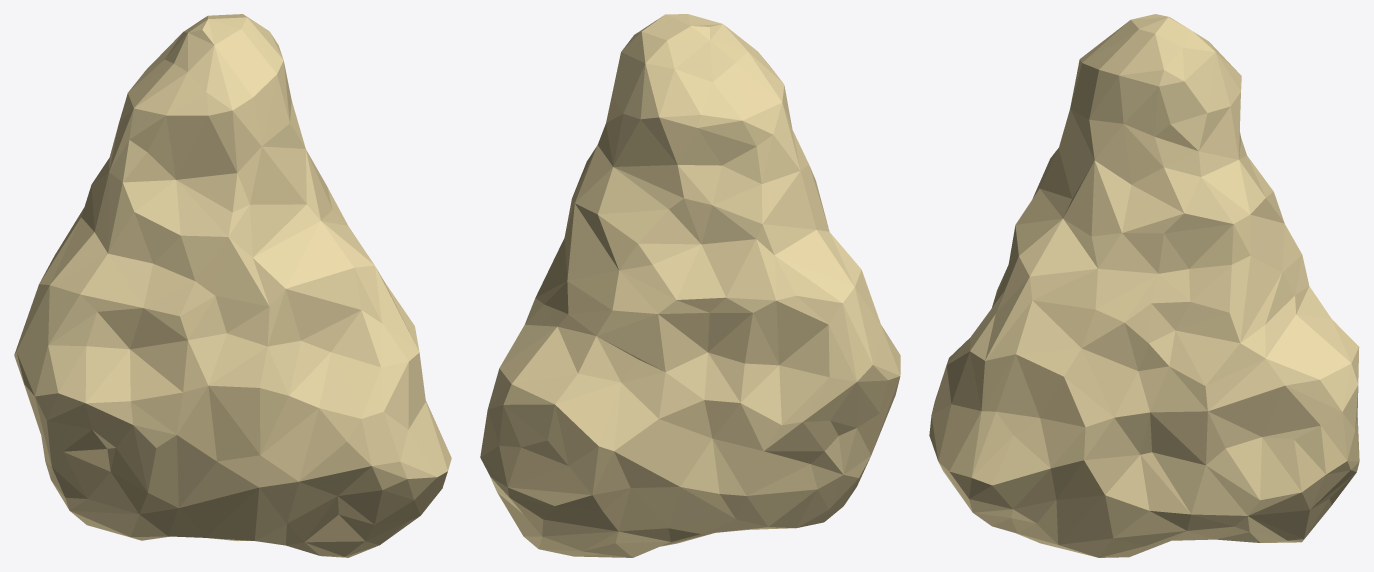
Rendered from Asteroid (11).fbx.
The picture shows the model from 3 angles, left to right: view 1: azimuth 30°, elevation 25°; view 2: azimuth 150°, elevation 25°; view 3: azimuth 270°, elevation 25°; orthographic projection. The views are drawn at different scales.
Parts seen in each view (by area): view 1: Asteroid178; view 2: Asteroid178; view 3: Asteroid178.
Boxes of the visible parts, box(x1,y1,x2,y2) form: Asteroid178: box(14, 14, 451, 557); Asteroid178: box(480, 14, 900, 557); Asteroid178: box(929, 14, 1359, 557).
Bounding box in the file's own units: 284 × 415 × 318.
